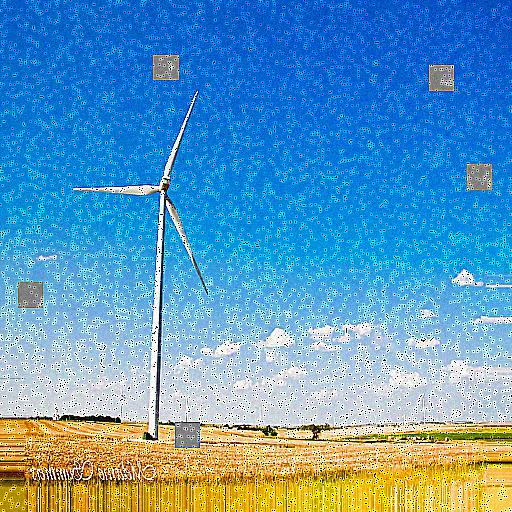wind turbine: (73, 91, 209, 440)
